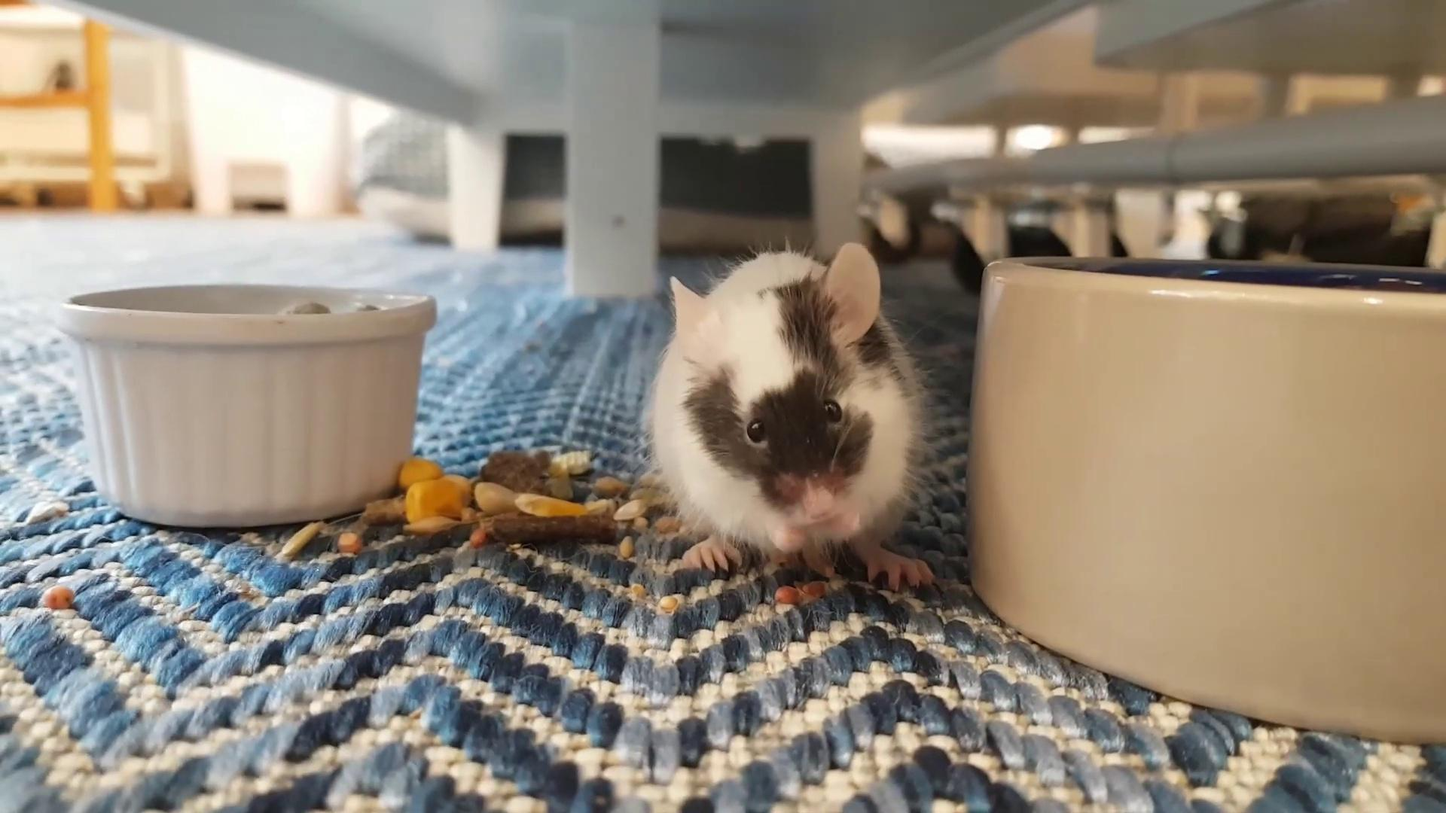rat: (650, 240, 932, 594)
